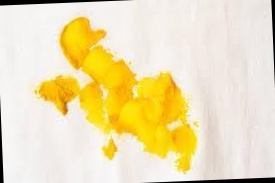mustard: (91, 57, 197, 168), (34, 71, 104, 130), (54, 18, 115, 82)
